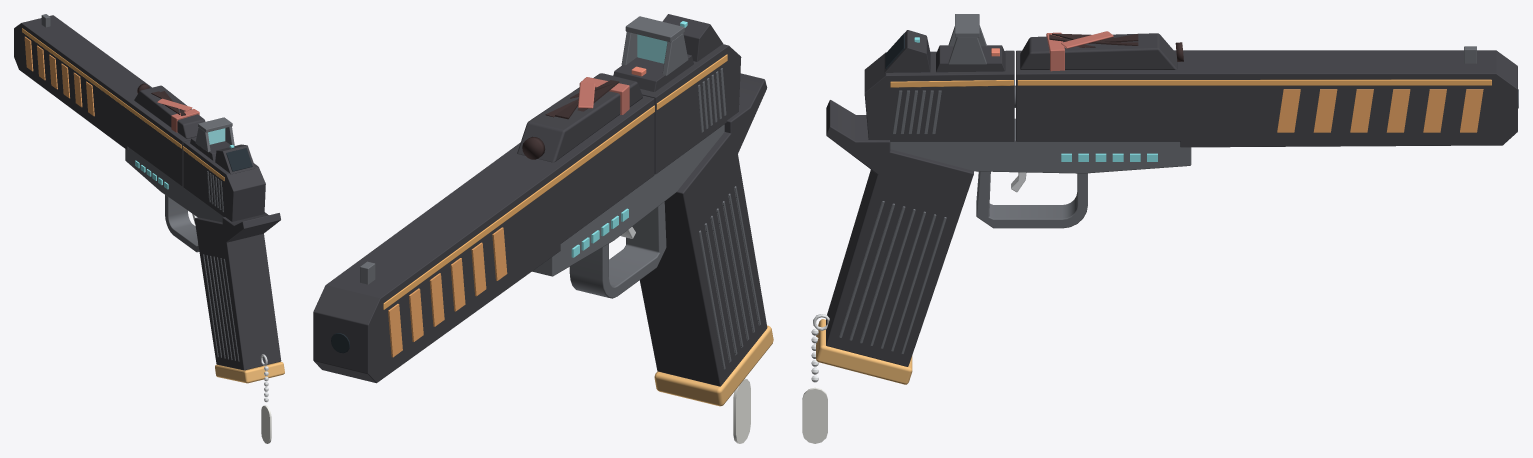
The model's file is smart_pistol.glb.
3 renders of one model, left to right at view 1: azimuth 30°, elevation 25°; view 2: azimuth 150°, elevation 25°; view 3: azimuth 270°, elevation 25°, orthographic. The views are drawn at different scales.
Parts seen in each view (by area): view 1: Frame, Shroud, Slide, TrackerScreen, Vents, MagBase, CharmTag, Details, TrackerGlass; view 2: Shroud, Frame, Slide, TrackerScreen, Vents, MagBase, TrackerGlass, CharmTag, Details, HoloGlass; view 3: Shroud, Frame, Slide, Vents, TrackerScreen, MagBase, CharmTag, Details, TrackerGlass.
Boxes of the visible parts, box(x1,y1,x2,y2) form: Frame: box(125, 148, 281, 370); Shroud: box(14, 14, 196, 186); Slide: box(182, 117, 265, 221); TrackerScreen: box(134, 85, 205, 138); Vents: box(24, 36, 94, 116); MagBase: box(215, 361, 284, 383); CharmTag: box(261, 366, 271, 443); Details: box(157, 98, 199, 132); TrackerGlass: box(137, 83, 185, 115); Shroud: box(313, 95, 654, 383); Frame: box(532, 73, 767, 386); Slide: box(613, 14, 741, 174); TrackerScreen: box(517, 73, 642, 162); Vents: box(388, 227, 507, 357); MagBase: box(654, 325, 773, 406); TrackerGlass: box(522, 80, 619, 159); CharmTag: box(733, 378, 750, 443); Details: box(578, 77, 629, 114); HoloGlass: box(637, 34, 667, 63); Shroud: box(1014, 46, 1518, 147); Frame: box(813, 100, 1191, 366); Slide: box(864, 14, 1014, 141); Vents: box(1277, 89, 1483, 132); TrackerScreen: box(1020, 33, 1177, 69); MagBase: box(816, 319, 912, 384); CharmTag: box(802, 329, 827, 443); Details: box(1046, 31, 1113, 71); TrackerGlass: box(1049, 33, 1183, 61).
Bounding box in the file's own units: 0.038 × 0.2587 × 0.4.
